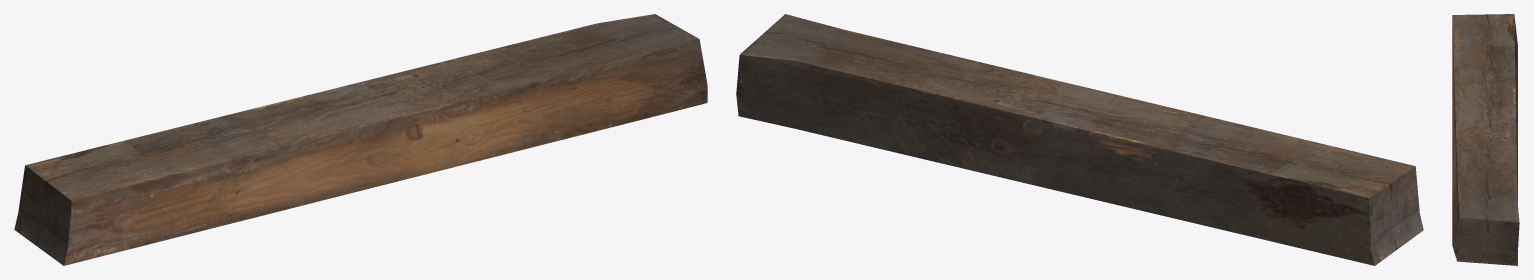
File: OU_AR_Wooden_Beam_01_D.fbx
The picture shows the model from 3 angles, left to right: view 1: azimuth 30°, elevation 25°; view 2: azimuth 150°, elevation 25°; view 3: azimuth 270°, elevation 25°; orthographic projection. The views are drawn at different scales.
Parts seen in each view (by area): view 1: Wooden_Beam; view 2: Wooden_Beam; view 3: Wooden_Beam.
Part boxes in pixels (<box>): Wooden_Beam: <box>14,14,707,265</box>; Wooden_Beam: <box>736,14,1423,265</box>; Wooden_Beam: <box>1452,14,1519,265</box>.
Size of the model in its own units: 116 by 12.38 by 15.79.
1 material, 1 textured.
